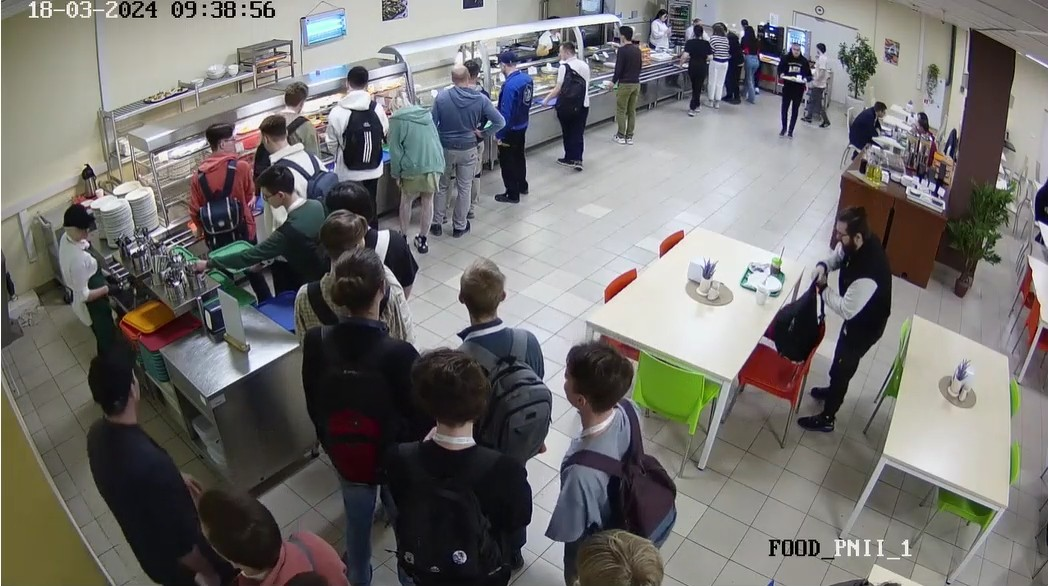Na_Kasse: (709, 19, 729, 111), (724, 24, 746, 106), (743, 22, 763, 101), (689, 22, 706, 113)
Ne_v_Ocheredi: (294, 254, 405, 586), (390, 348, 522, 586), (80, 348, 203, 586), (545, 345, 674, 533), (446, 260, 551, 465), (793, 195, 878, 445), (184, 471, 323, 586), (574, 520, 671, 586), (310, 220, 376, 301), (775, 44, 807, 142), (808, 41, 839, 127), (326, 176, 378, 211)
Personal: (58, 200, 125, 348), (454, 30, 491, 79), (527, 12, 571, 50), (645, 6, 673, 43)
Vybiraet: (216, 165, 315, 290), (179, 113, 252, 251), (254, 111, 329, 223), (321, 59, 388, 180), (391, 87, 440, 251), (439, 68, 479, 246), (553, 40, 591, 166), (494, 57, 527, 198), (615, 26, 646, 144), (274, 80, 328, 144)
Za_Stolom: (841, 98, 889, 165), (1030, 166, 1048, 246), (904, 105, 933, 142)
